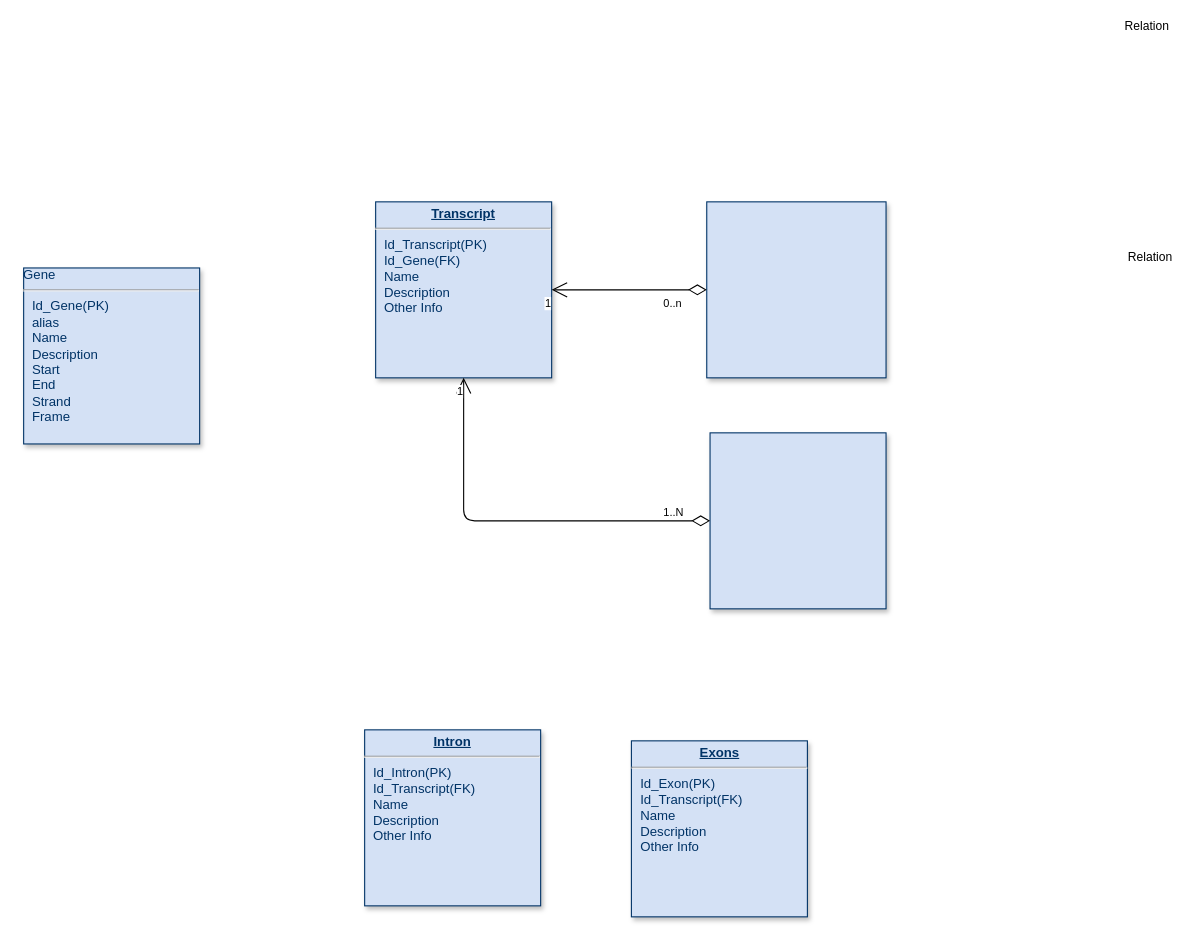
This 1191x944 diagram has some shape labels left out. The shapes that lost their labels are listed below. From the top down, each one's centre as x and y in pixels, then its label:
(x=797, y=291): 5UTR Id_five_utr(PK) Id_Transcript(FK) Name Description Other Info
(x=799, y=522): 3UTR Id_three_utr(PK) Id_Transcript(FK) Name Description Other Info
